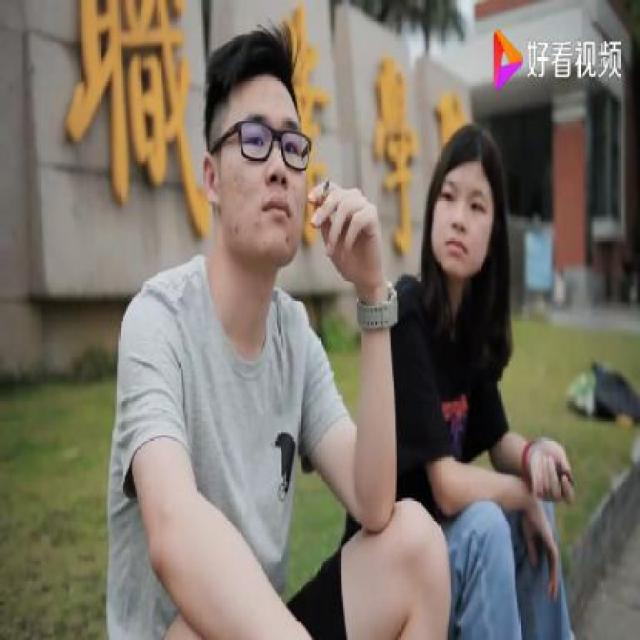cigarette: (311, 170, 335, 218)
